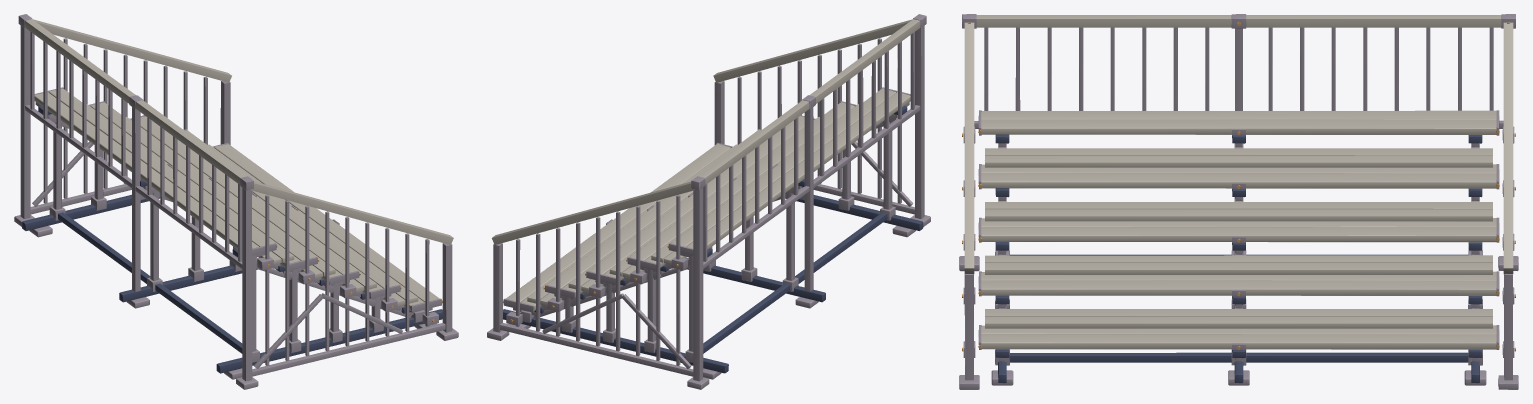
The model's file is kit.bleachers.lod1.glb.
3 renders of one model, left to right at view 1: azimuth 30°, elevation 25°; view 2: azimuth 150°, elevation 25°; view 3: azimuth 270°, elevation 25°, orthographic. The views are drawn at different scales.
Size of the model in its own units: 3.55 by 3.11 by 6.27.
